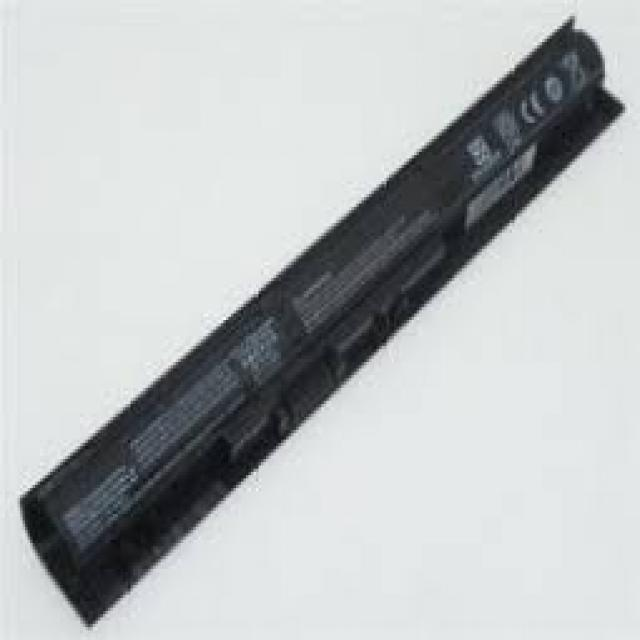hazard: (21, 22, 611, 586)
